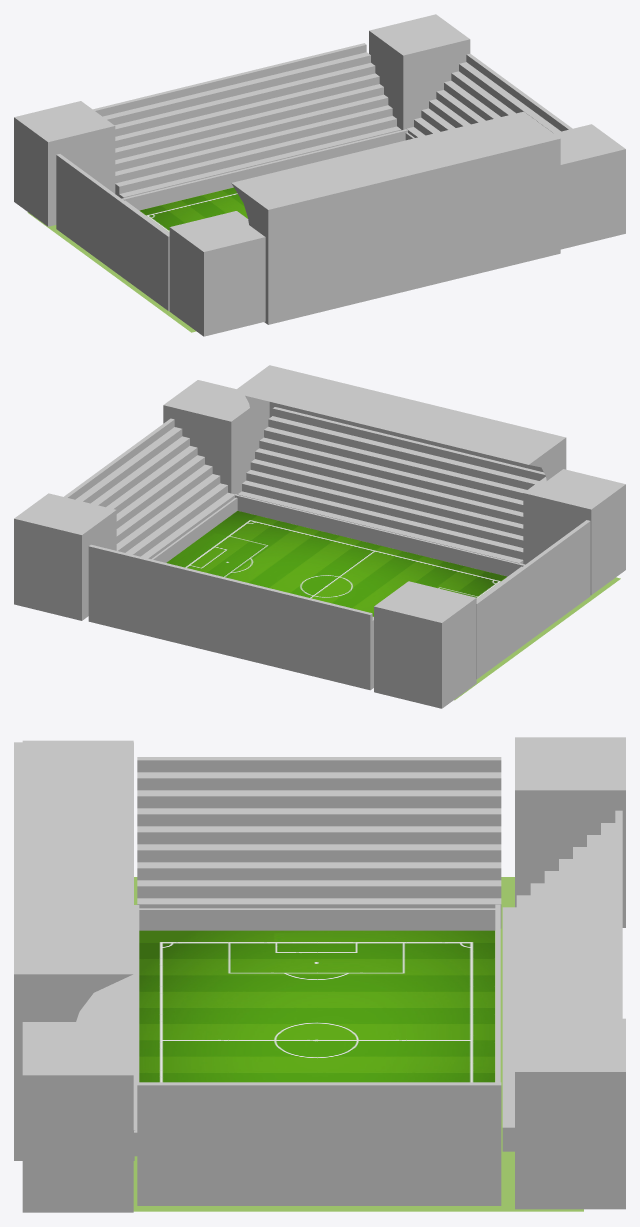
File: Stadium.FBX
3 views of the same model, one above another, from view 1: azimuth 30°, elevation 25°; view 2: azimuth 150°, elevation 25°; view 3: azimuth 270°, elevation 25° (orthographic). The views are drawn at different scales.
Visible parts, largest first — view 1: Box008, Box006, Box013, Box009, Box012, Box011, Box014, Box010, Box001, Plane001, Plane003; view 2: Box007, Box006, Plane001, Box008, Box010, Box012, Box011, Box009, Box013, Box014, Box002, Box004 (+1 smaller); view 3: Box009, Plane001, Box010, Box008, Box014, Box011, Box006, Box012, Box003, Plane003, Box007, Box002 (+1 smaller).
Part boxes in pixels (left/top/right/bottom): Box008: left=231, top=111, right=560, bottom=324; Box006: left=93, top=43, right=401, bottom=198; Box013: left=169, top=211, right=265, bottom=336; Box009: left=56, top=154, right=169, bottom=310; Box012: left=14, top=101, right=115, bottom=226; Box011: left=369, top=14, right=470, bottom=130; Box014: left=554, top=124, right=625, bottom=249; Box010: left=406, top=53, right=572, bottom=137; Box001: left=122, top=129, right=407, bottom=210; Plane001: left=139, top=187, right=247, bottom=232; Plane003: left=27, top=187, right=232, bottom=332; Box007: left=237, top=407, right=545, bottom=563; Box006: left=88, top=544, right=373, bottom=690; Plane001: left=166, top=511, right=506, bottom=616; Box008: left=232, top=365, right=566, bottom=494; Box010: left=64, top=418, right=235, bottom=558; Box012: left=374, top=581, right=476, bottom=708; Box011: left=14, top=493, right=116, bottom=620; Box009: left=476, top=520, right=590, bottom=678; Box013: left=523, top=469, right=625, bottom=595; Box014: left=163, top=380, right=252, bottom=494; Box002: left=235, top=494, right=524, bottom=576; Box004: left=151, top=497, right=237, bottom=562; Box009: left=137, top=757, right=501, bottom=928; Plane001: left=139, top=930, right=494, bottom=1082; Box010: left=137, top=1082, right=501, bottom=1205; Box008: left=14, top=742, right=134, bottom=1160; Box014: left=22, top=1022, right=133, bottom=1212; Box011: left=515, top=1018, right=625, bottom=1209; Box006: left=502, top=810, right=622, bottom=1151; Box012: left=515, top=737, right=625, bottom=927; Box003: left=139, top=908, right=495, bottom=930; Plane003: left=133, top=877, right=583, bottom=1211; Box007: left=76, top=910, right=135, bottom=1141; Box002: left=134, top=905, right=139, bottom=1156.
Size of the model in its own units: 284 by 73.16 by 217.
